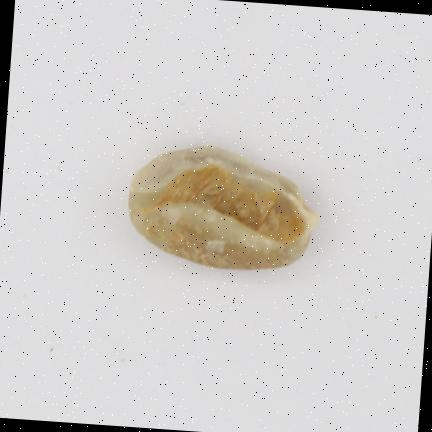shell: (129, 146, 315, 269)
